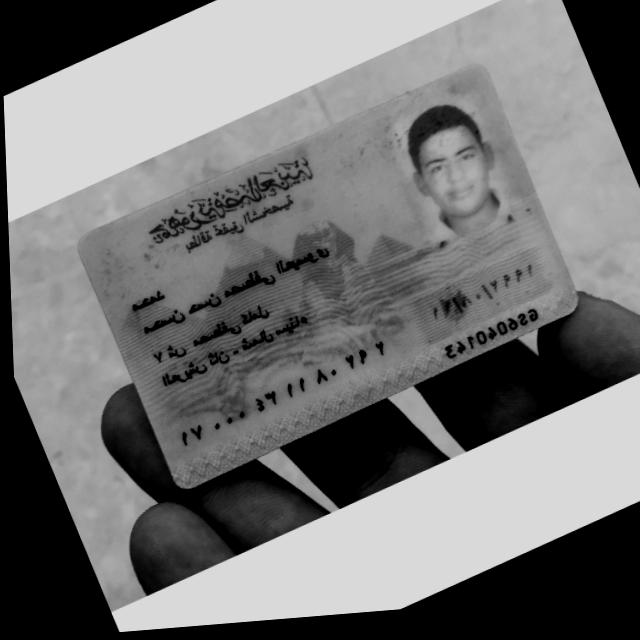id_card: (78, 65, 577, 488)
